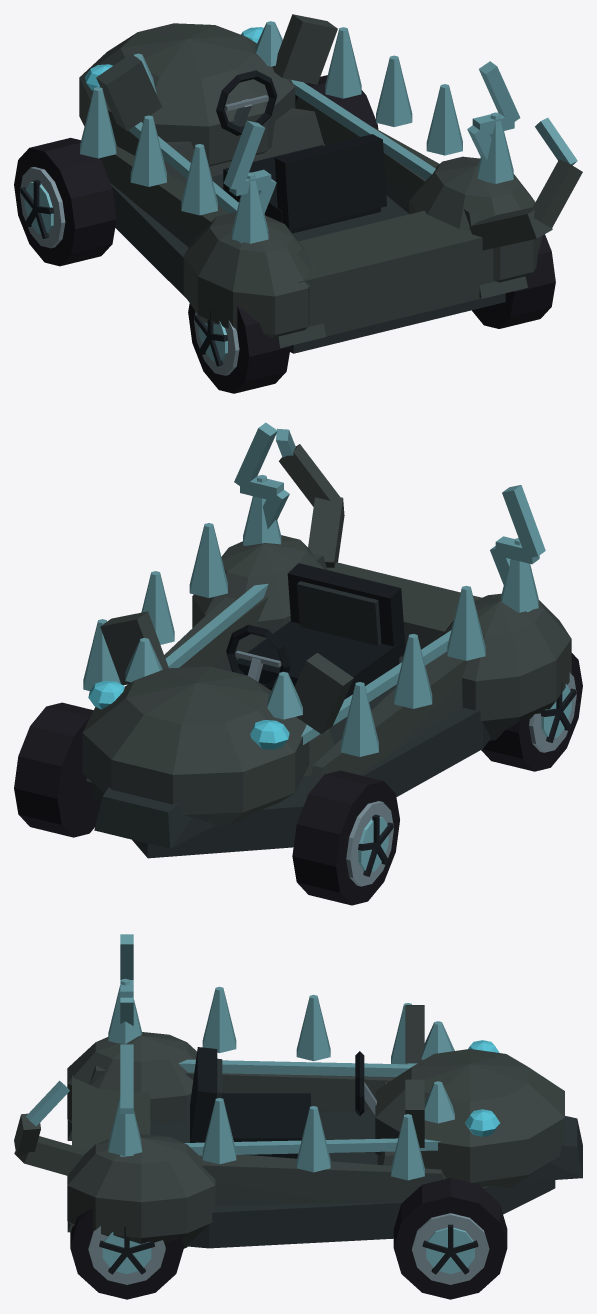
Rendered from kart.glb.
3 views of the same model, one above another, from view 1: azimuth 30°, elevation 25°; view 2: azimuth 150°, elevation 25°; view 3: azimuth 270°, elevation 25° (orthographic). The views are drawn at different scales.
Parts seen in each view (by area): view 1: identity-beast-beast-sculpted-prow-and-haunches, identity-beast-motif-spines, identity-beast-driver-cockpit, wheel-front-left, wheel-rear-left, identity-beast-motif-tail, identity-beast-motif-electric, wheel-rear-right, wheel-front-right; view 2: identity-beast-beast-sculpted-prow-and-haunches, identity-beast-driver-cockpit, identity-beast-motif-spines, wheel-front-left, wheel-front-right, identity-beast-motif-electric, wheel-rear-left, identity-beast-motif-tail; view 3: identity-beast-beast-sculpted-prow-and-haunches, wheel-front-right, identity-beast-motif-spines, identity-beast-driver-cockpit, wheel-rear-right, identity-beast-motif-tail, identity-beast-motif-electric.
Boxes of the visible parts, box(x1,y1,x2,y2) form: identity-beast-beast-sculpted-prow-and-haunches: box(79, 14, 542, 353); identity-beast-motif-spines: box(80, 27, 513, 243); identity-beast-driver-cockpit: box(216, 70, 386, 233); wheel-front-left: box(14, 137, 116, 266); wheel-rear-left: box(188, 303, 290, 393); identity-beast-motif-tail: box(469, 117, 582, 250); identity-beast-motif-electric: box(223, 61, 520, 243); wheel-rear-right: box(472, 234, 555, 328); wheel-front-right: box(295, 75, 378, 129); identity-beast-beast-sculpted-prow-and-haunches: box(82, 535, 571, 858); identity-beast-driver-cockpit: box(226, 563, 405, 699); identity-beast-motif-spines: box(83, 475, 538, 756); wheel-front-left: box(292, 770, 399, 905); wheel-front-right: box(14, 702, 100, 837); identity-beast-motif-electric: box(234, 422, 545, 612); wheel-rear-left: box(481, 653, 582, 771); identity-beast-motif-tail: box(276, 428, 344, 567); identity-beast-beast-sculpted-prow-and-haunches: box(67, 1005, 582, 1248); wheel-front-right: box(393, 1178, 507, 1299); identity-beast-motif-spines: box(108, 978, 424, 1180); identity-beast-driver-cockpit: box(190, 1047, 376, 1158); wheel-rear-right: box(70, 1209, 183, 1299); identity-beast-motif-tail: box(14, 1080, 87, 1175); identity-beast-motif-electric: box(120, 934, 133, 1156).
Bounding box in the file's own units: 2.01 × 1.49 × 3.2.
